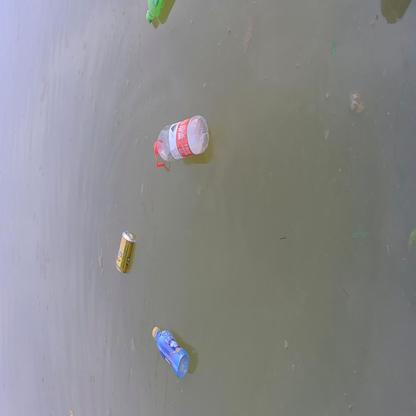can: (114, 231, 135, 274)
plastic bottle: (152, 114, 208, 167), (150, 325, 190, 377), (145, 1, 167, 23)
